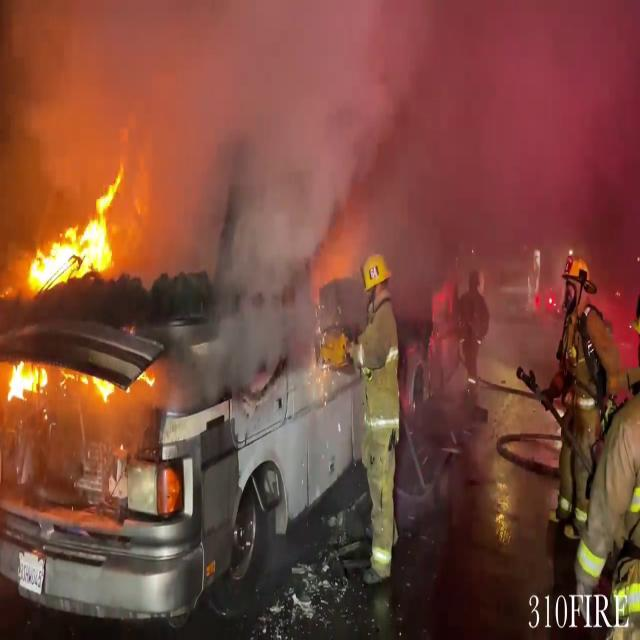Fire: (5, 163, 127, 293), (0, 356, 160, 410)
Smoke: (2, 0, 624, 318)
